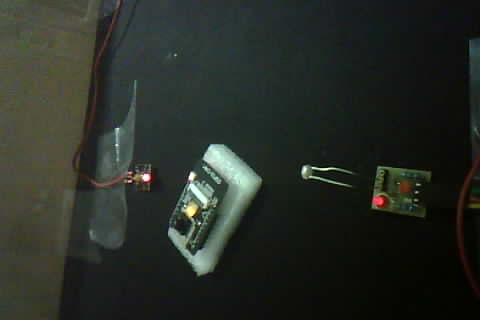esp32: (161, 149, 238, 264)
